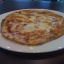pizza: (4, 8, 61, 44)
